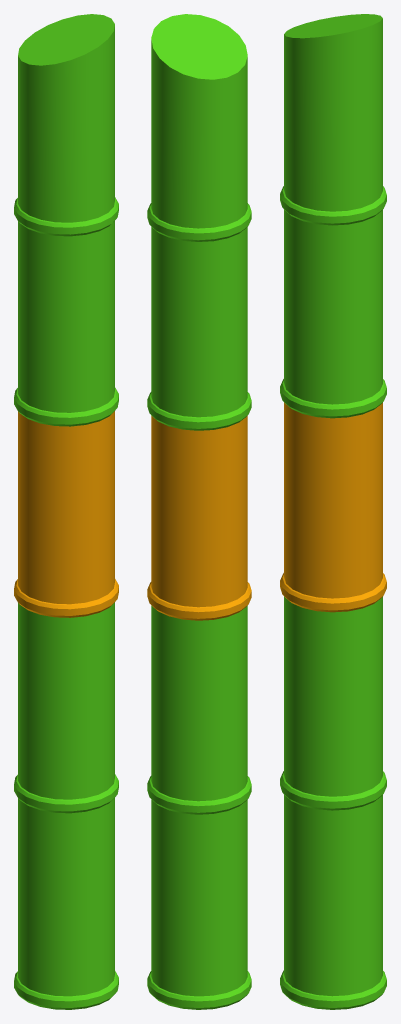
File: Bamboo_Middle_1.fbx
3 renders of one model, left to right at view 1: azimuth 30°, elevation 25°; view 2: azimuth 150°, elevation 25°; view 3: azimuth 330°, elevation 25°, orthographic. The views are drawn at different scales.
Visible parts, largest first — view 1: Bamboo_Middle_1; view 2: Bamboo_Middle_1; view 3: Bamboo_Middle_1.
Part boxes in pixels (x1,y1,x2,y2): Bamboo_Middle_1: [14, 14, 118, 1009]; Bamboo_Middle_1: [147, 14, 251, 1009]; Bamboo_Middle_1: [280, 14, 386, 1009].
Size of the model in its own units: 0.2587 by 2.63 by 0.2587.
